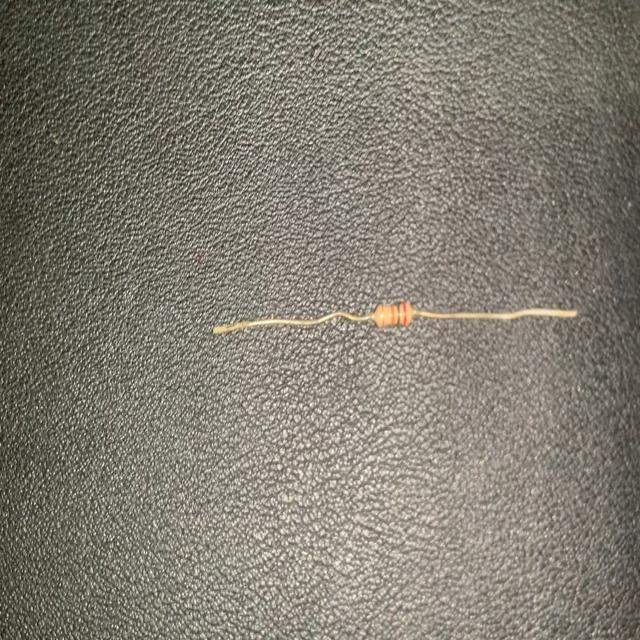resistor: (208, 293, 583, 347)
